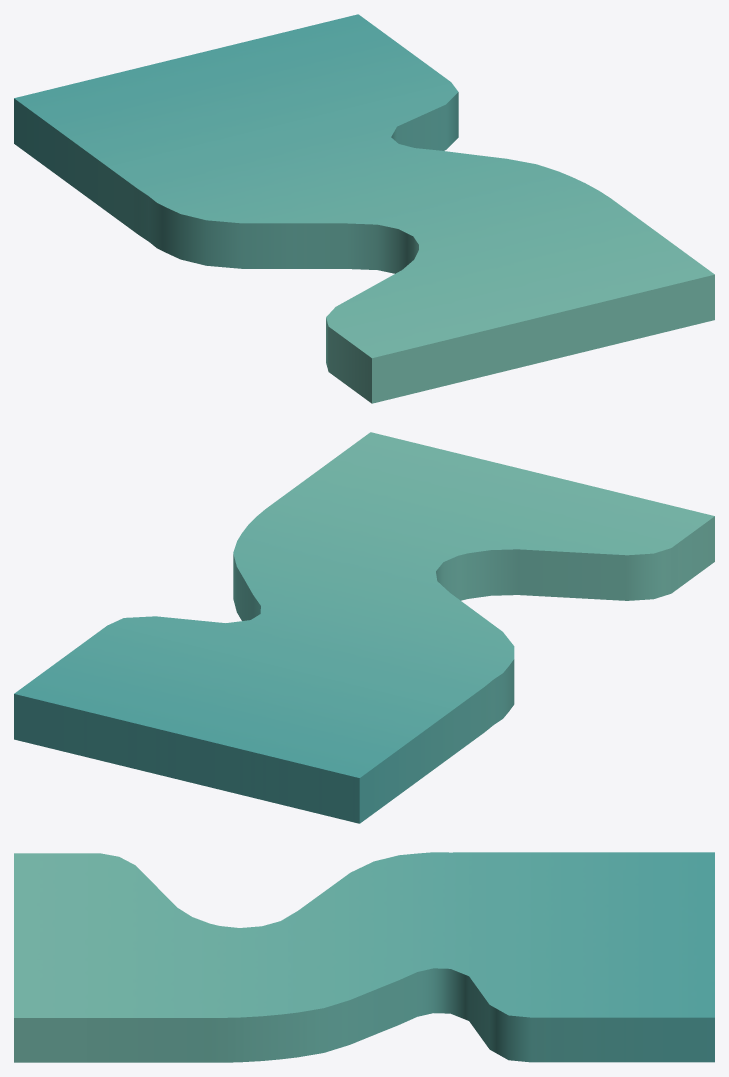
The model's file is PR_SwirlyPlatform.fbx.
3 views of the same model, one above another, from view 1: azimuth 30°, elevation 25°; view 2: azimuth 150°, elevation 25°; view 3: azimuth 270°, elevation 25° (orthographic).
Parts seen in each view (by area): view 1: PR_SwirlyPlatform; view 2: PR_SwirlyPlatform; view 3: PR_SwirlyPlatform.
Part boxes in pixels (x1,y1,x2,y2): PR_SwirlyPlatform: (14, 14, 714, 403); PR_SwirlyPlatform: (14, 432, 714, 823); PR_SwirlyPlatform: (14, 852, 714, 1062).
Size of the model in its own units: 1146 by 144 by 2048.
Materials: 1 (1 with a texture image).
